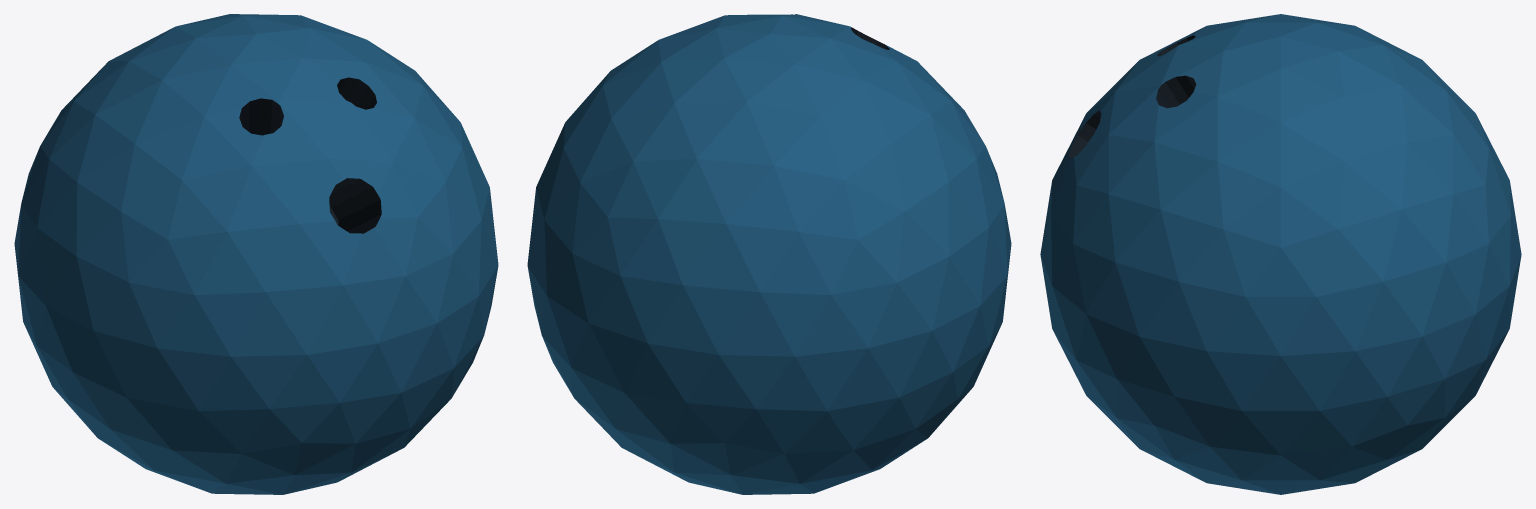
The model's file is BowlingBall_Blue.fbx.
3 renders of one model, left to right at view 1: azimuth 30°, elevation 25°; view 2: azimuth 150°, elevation 25°; view 3: azimuth 270°, elevation 25°, orthographic.
Parts seen in each view (by area): view 1: BowlingBall_Blue; view 2: BowlingBall_Blue; view 3: BowlingBall_Blue.
Boxes of the visible parts, x1,y1,x2,y2 form: BowlingBall_Blue: (14, 14, 498, 494); BowlingBall_Blue: (527, 14, 1011, 494); BowlingBall_Blue: (1040, 14, 1521, 494).
Size of the model in its own units: 0.217 by 0.217 by 0.217.
1 material, 1 textured.
